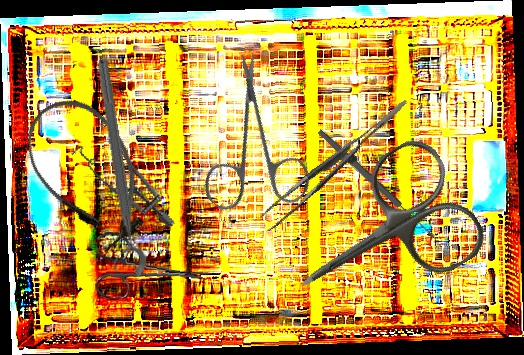Cannula: (9, 82, 167, 263)
Fixation Ring: (78, 58, 149, 280)
Iris Scissors: (267, 130, 493, 341), (156, 48, 352, 245), (92, 231, 211, 308)
Speculum: (59, 112, 200, 229)
Surgical Spoon: (316, 127, 437, 242)
Tissue Forceps: (248, 99, 426, 232)
